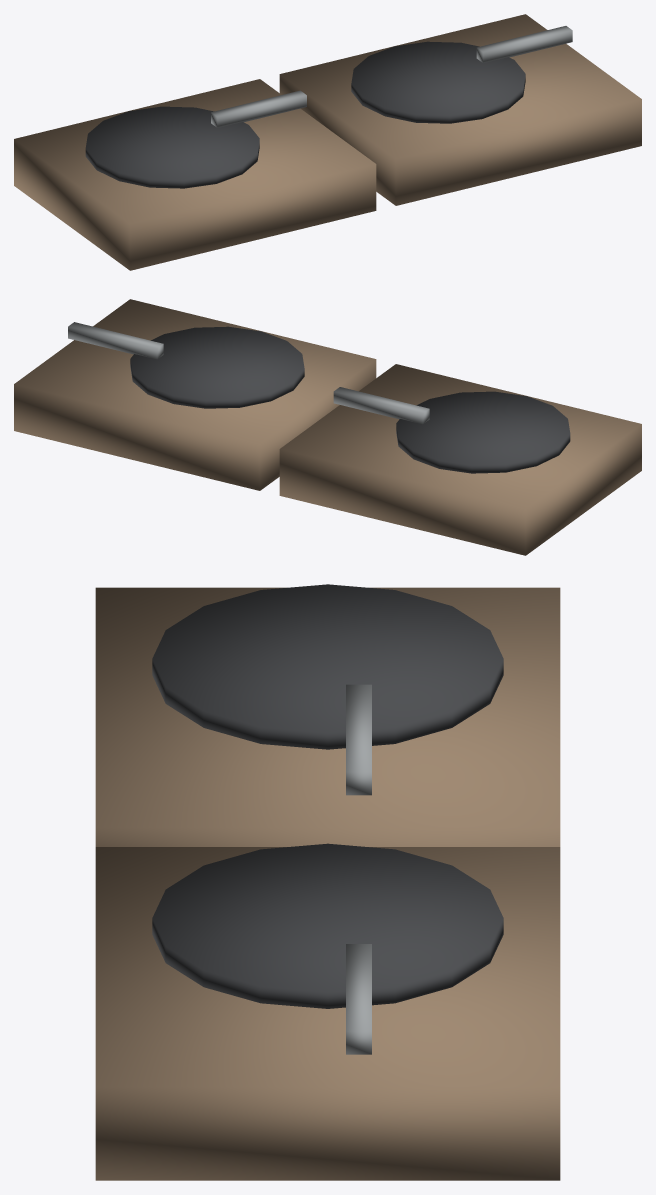
The model's file is record_player__cluster.glb.
The picture shows the model from 3 angles, top to bottom: view 1: azimuth 30°, elevation 25°; view 2: azimuth 150°, elevation 25°; view 3: azimuth 270°, elevation 25°; orthographic projection. The views are drawn at different scales.
Parts seen in each view (by area): view 1: world; view 2: world; view 3: world.
Part boxes in pixels (left/top/right/bottom): world: left=14, top=14, right=641, bottom=270; world: left=14, top=299, right=641, bottom=555; world: left=95, top=584, right=560, bottom=1180.
Size of the model in its own units: 1.14 by 0.1525 by 0.45.
